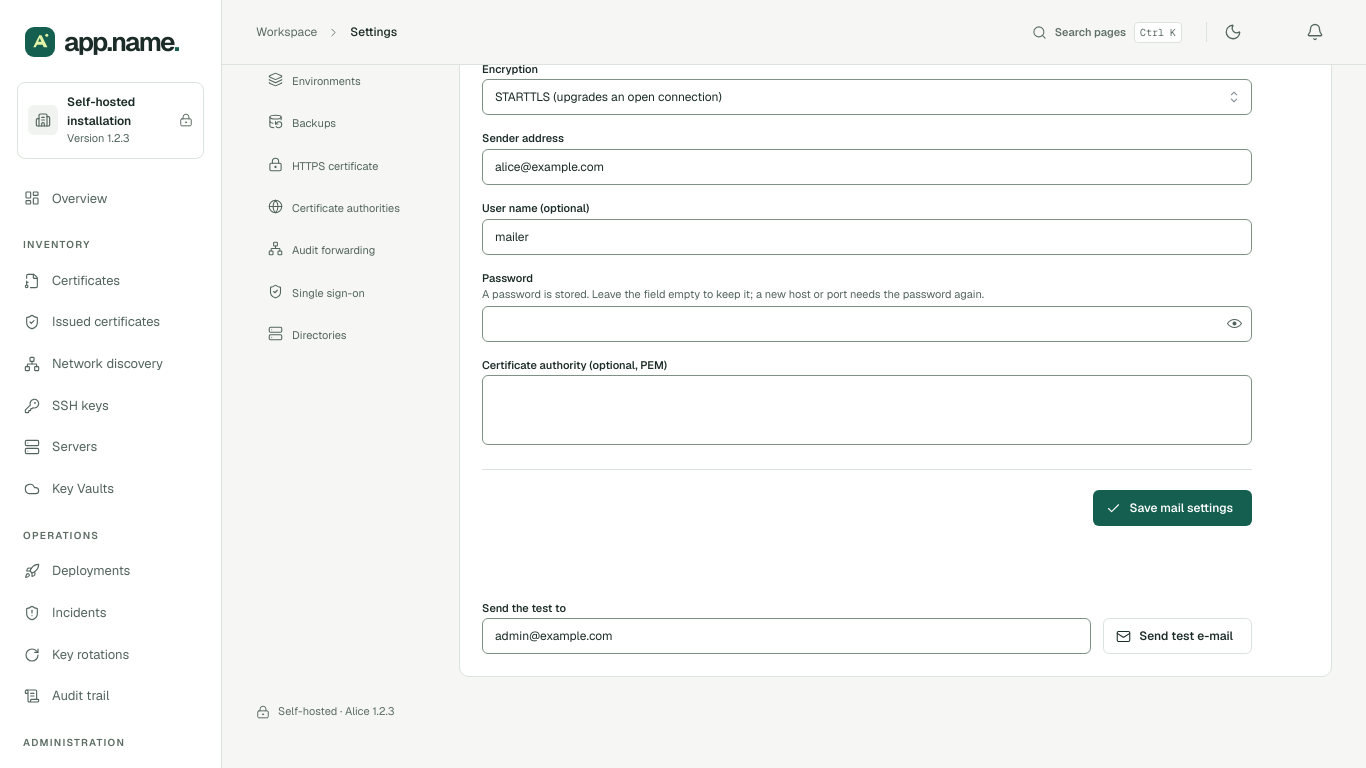
Test: SettingsPage, mail › shows the other test failures with their texts and offers no trust
(page scrolled)
Click the button "Send test e-mail".
click(1178, 636)  # box 1103,618 -> 1252,654
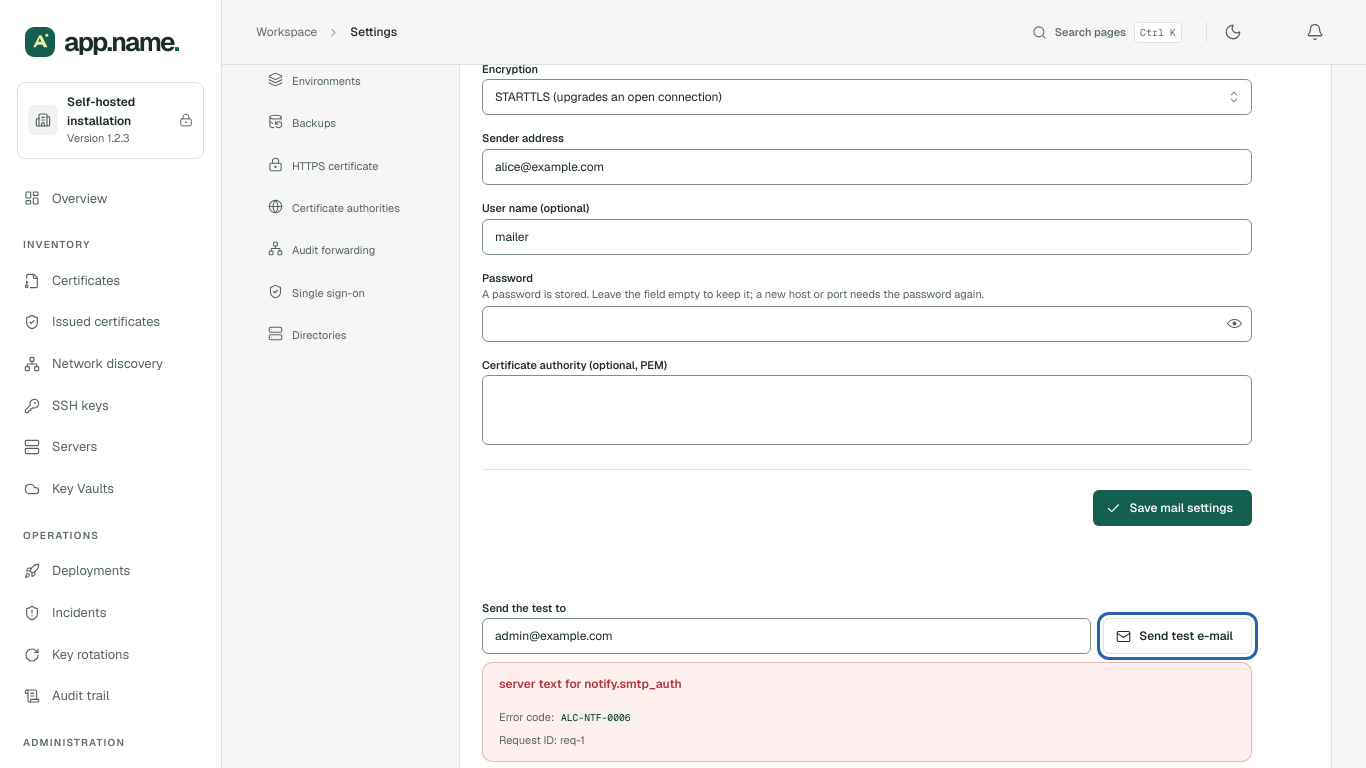
Now the message "server text for notify.smtp_auth Error code: ALC-NTF-0006 Request ID: req-1" is shown, box 482,662 -> 1252,762
